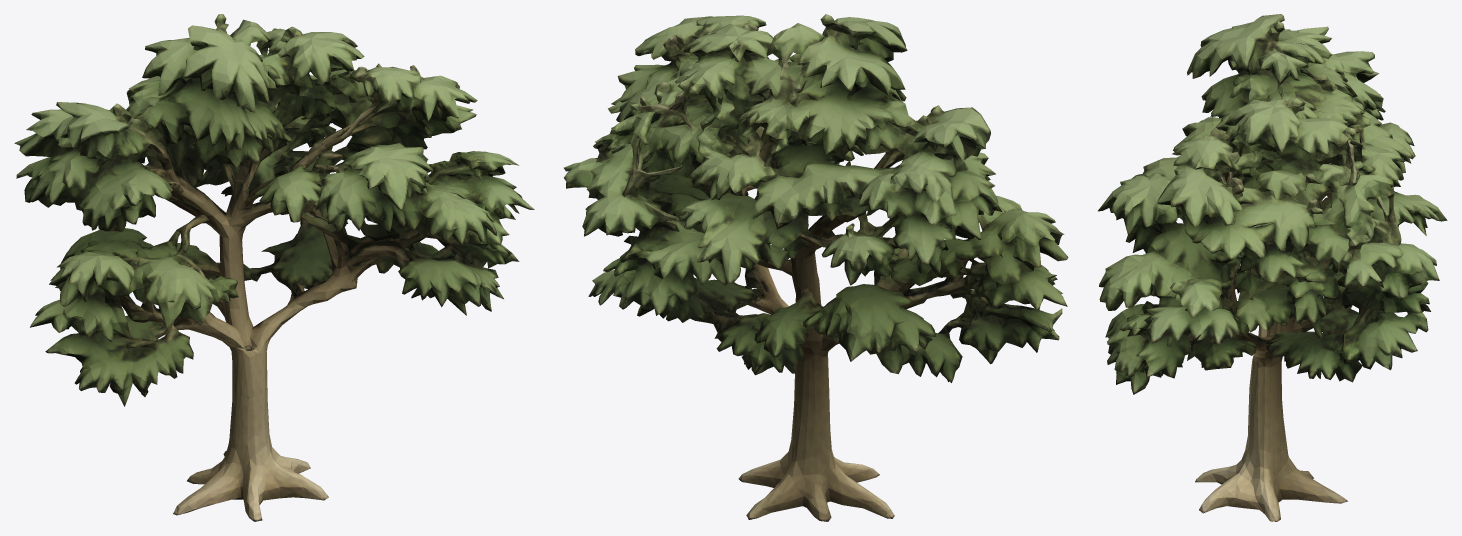
3 renders of one model, left to right at view 1: azimuth 30°, elevation 25°; view 2: azimuth 150°, elevation 25°; view 3: azimuth 270°, elevation 25°, orthographic. The views are drawn at different scales.
Parts seen in each view (by area): view 1: world; view 2: world; view 3: world.
Part boxes in pixels (box(x1,y1,x2,y2)): world: box(14, 14, 534, 521); world: box(563, 14, 1068, 521); world: box(1098, 14, 1447, 521).
Bounding box in the file's own units: 8.12 × 8 × 5.43.
1 material, 1 textured.
